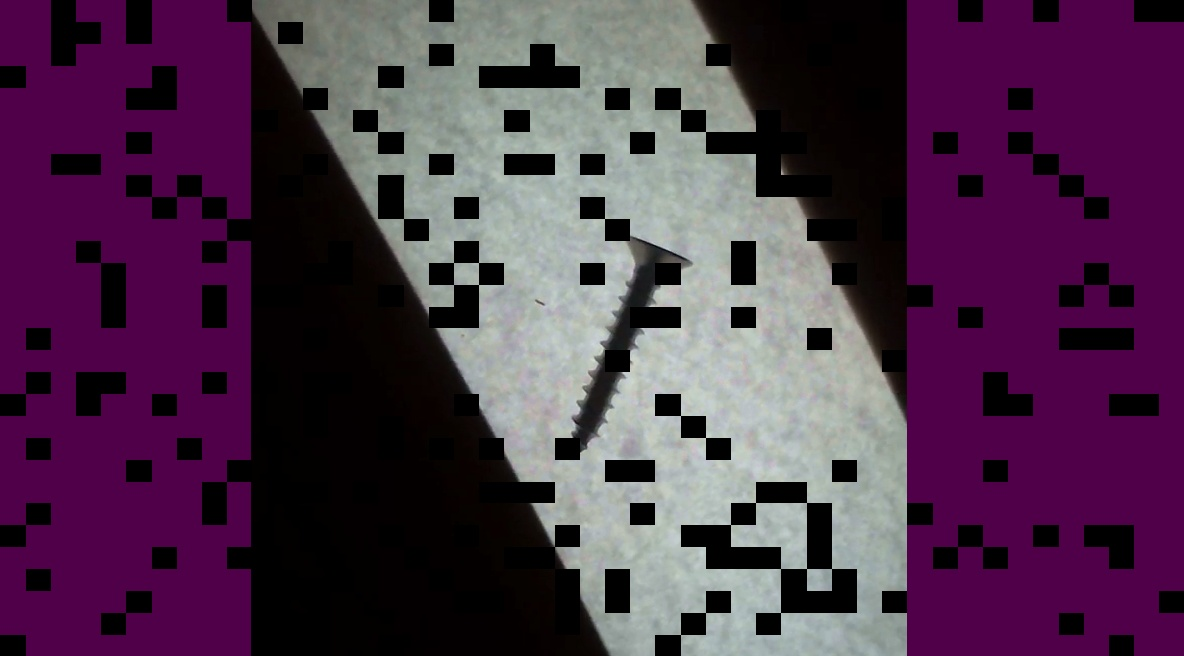S001: (557, 218, 698, 476)
